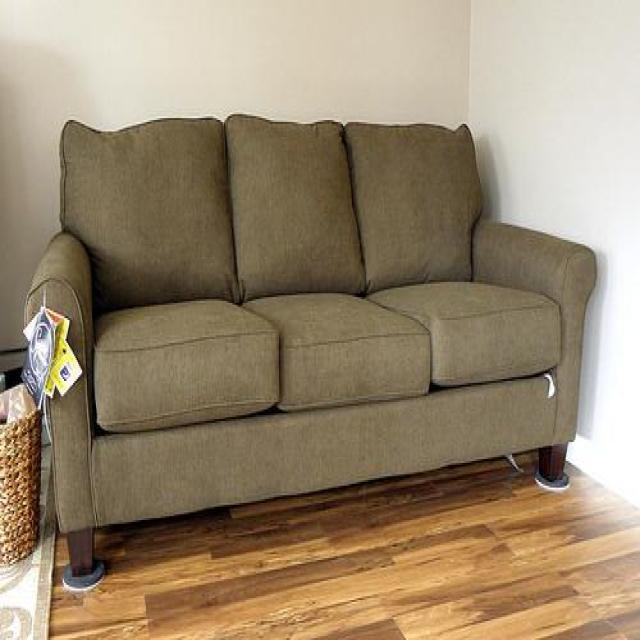sofa: (25, 112, 598, 586)
